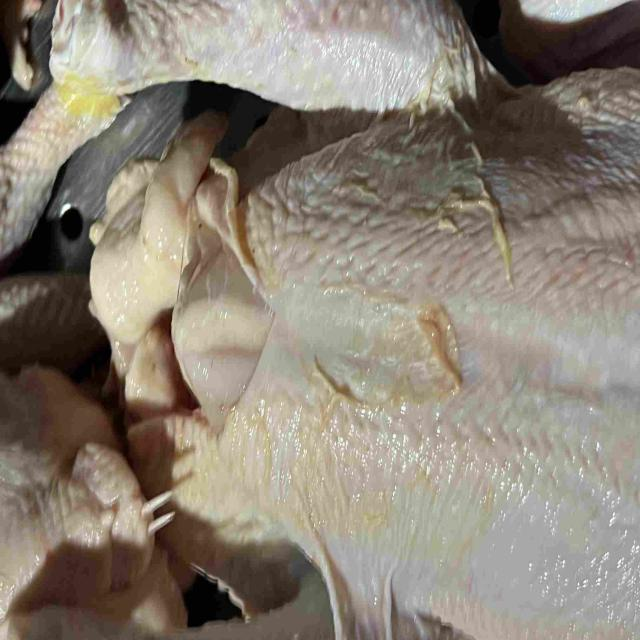breast: (175, 89, 640, 640)
leg: (53, 0, 489, 129)
wing: (492, 0, 640, 89)
